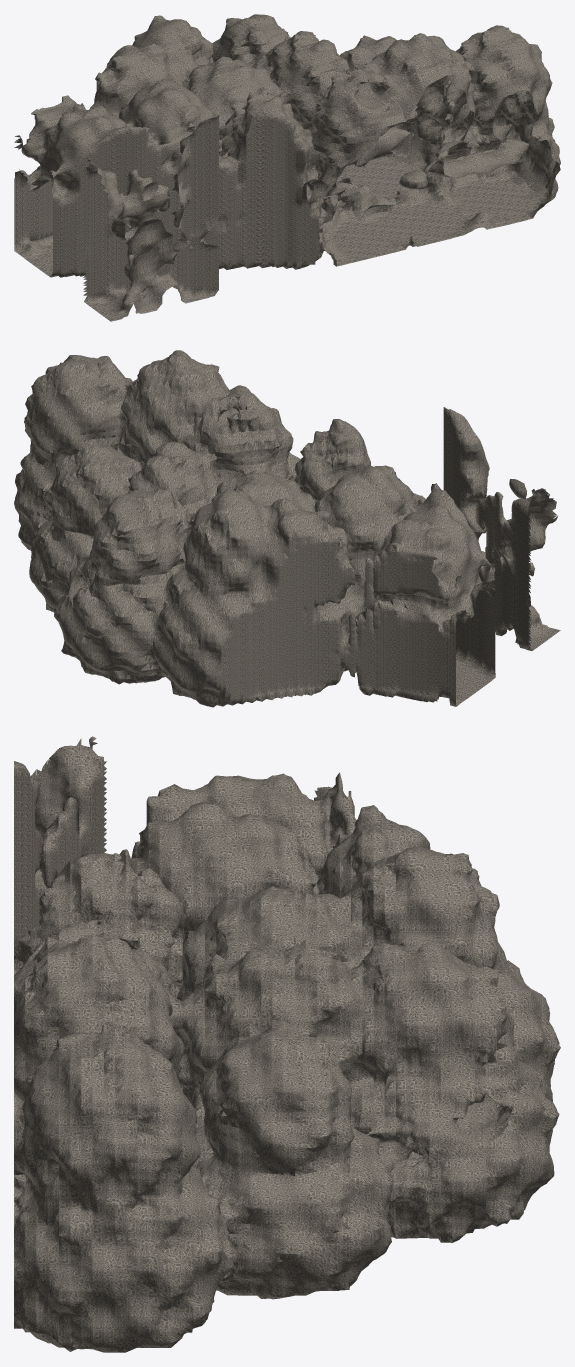
The model's file is taihu_rockery_1.glb.
The picture shows the model from 3 angles, top to bottom: view 1: azimuth 30°, elevation 25°; view 2: azimuth 150°, elevation 25°; view 3: azimuth 270°, elevation 25°; orthographic projection. The views are drawn at different scales.
Visible parts, largest first — view 1: taihu_rockery_10, taihu_rockery_17, taihu_rockery_11, taihu_rockery_12, taihu_rockery_13, taihu_rockery_16, taihu_rockery_15, taihu_rockery_14, taihu_rockery_18; view 2: taihu_rockery_10, taihu_rockery_11, taihu_rockery_12, taihu_rockery_13, taihu_rockery_15, taihu_rockery_14, taihu_rockery_16, taihu_rockery_17, taihu_rockery_18; view 3: taihu_rockery_17, taihu_rockery_16, taihu_rockery_15, taihu_rockery_18, taihu_rockery_12, taihu_rockery_13, taihu_rockery_10, taihu_rockery_11, taihu_rockery_14.
Part boxes in pixels (x1,y1,x2,y2): taihu_rockery_10: [14, 95, 185, 321]; taihu_rockery_17: [366, 25, 560, 235]; taihu_rockery_11: [31, 45, 232, 307]; taihu_rockery_12: [90, 15, 324, 303]; taihu_rockery_13: [133, 15, 393, 269]; taihu_rockery_16: [271, 17, 532, 252]; taihu_rockery_15: [213, 15, 463, 266]; taihu_rockery_14: [210, 14, 393, 266]; taihu_rockery_18: [476, 25, 560, 218]; taihu_rockery_10: [364, 439, 560, 706]; taihu_rockery_11: [253, 407, 521, 701]; taihu_rockery_12: [160, 409, 478, 707]; taihu_rockery_13: [81, 385, 370, 707]; taihu_rockery_15: [55, 350, 301, 683]; taihu_rockery_14: [81, 386, 297, 684]; taihu_rockery_16: [29, 350, 238, 673]; taihu_rockery_17: [14, 355, 163, 612]; taihu_rockery_18: [14, 355, 84, 550]; taihu_rockery_17: [14, 970, 394, 1351]; taihu_rockery_16: [14, 933, 550, 1296]; taihu_rockery_15: [14, 913, 559, 1242]; taihu_rockery_18: [14, 1047, 231, 1352]; taihu_rockery_12: [14, 762, 560, 1101]; taihu_rockery_13: [15, 828, 560, 1192]; taihu_rockery_10: [30, 736, 356, 895]; taihu_rockery_11: [14, 761, 430, 975]; taihu_rockery_14: [27, 910, 559, 1187].
Bounding box in the file's own units: 19.29 × 7.52 × 11.68.
Materials: 1 (1 with a texture image).
